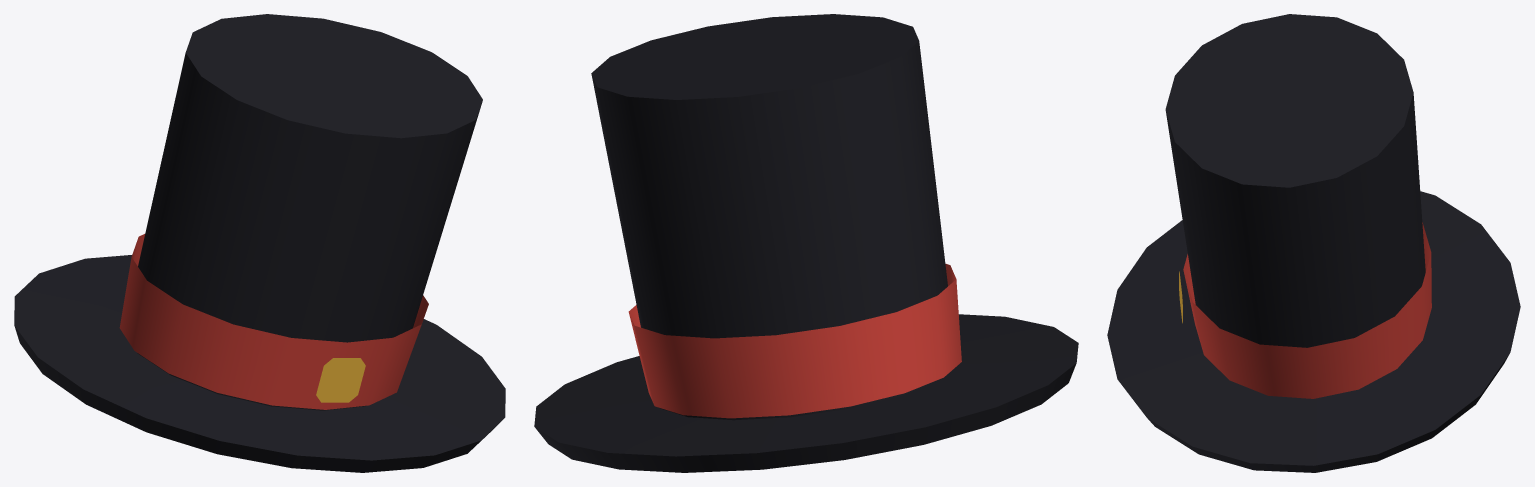
File: Chistera.fbx
3 views of the same model, side by side, from view 1: azimuth 30°, elevation 25°; view 2: azimuth 150°, elevation 25°; view 3: azimuth 270°, elevation 25° (orthographic). The views are drawn at different scales.
Parts seen in each view (by area): view 1: Chistera; view 2: Chistera; view 3: Chistera.
Part boxes in pixels (bbox=[...]): Chistera: bbox=[14, 14, 505, 472]; Chistera: bbox=[534, 14, 1078, 472]; Chistera: bbox=[1107, 14, 1520, 472].
Size of the model in its own units: 0.72 by 0.59 by 0.65.
1 material, 1 textured.
